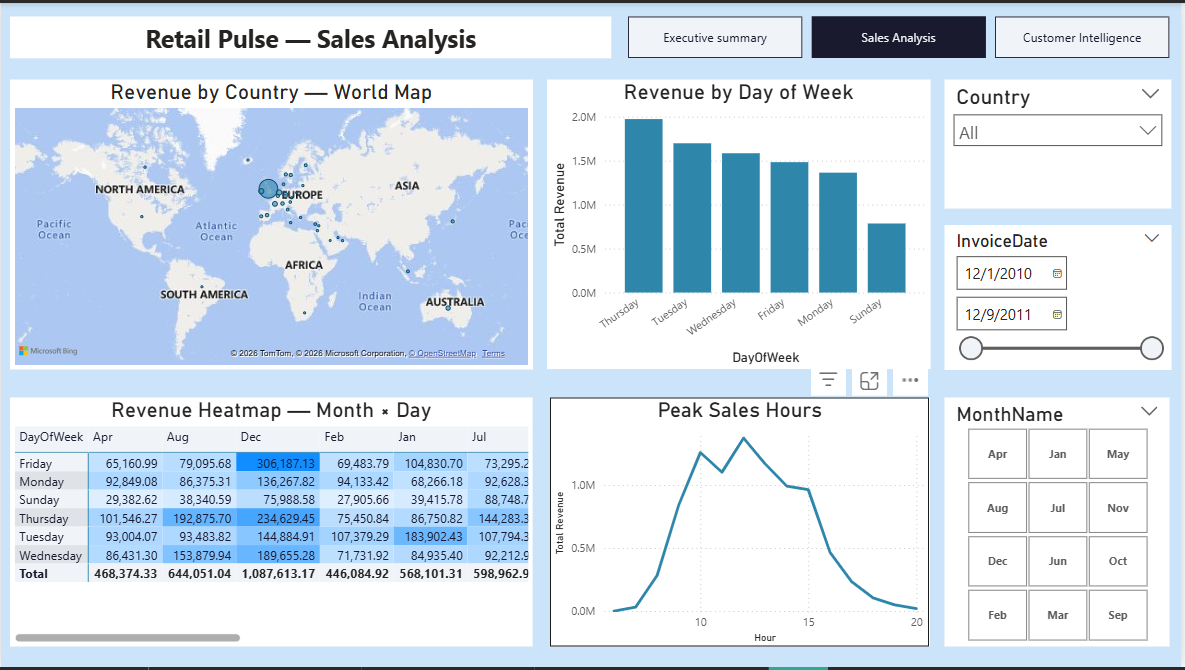

The page's visual inventory and layout, read from the dashboard file:
{"tool":"powerbi","page":{"name":"Sales Analysis","canvas":[1280,720],"ordinal":1},"visuals":[{"type":"clusteredColumnChart","title":"Revenue by Day of Week","fields":{"Category":["retailpulse retail_sales.DayOfWeek"],"Y":["retailpulse retail_sales.Total Revenue"]},"box":[591.5,83.2,415.8,313.7],"z":0},{"type":"lineChart","title":"Peak Sales Hours","fields":{"Category":["retailpulse retail_sales.Hour"],"Y":["retailpulse retail_sales.Total Revenue"]},"box":[595.3,427.1,412,270.2],"z":1000},{"type":"map","title":"Revenue by Country — World Map","fields":{"Category":["retailpulse retail_sales.Country"],"Size":["retailpulse retail_sales.Total Revenue"]},"box":[9.4,83.2,566.9,313.7],"z":2000},{"type":"pivotTable","title":"Revenue Heatmap — Month × Day","fields":{"Rows":["retailpulse retail_sales.DayOfWeek"],"Columns":["retailpulse retail_sales.MonthName"],"Values":["retailpulse retail_sales.Total Revenue"]},"box":[9.4,427.1,566.9,270.2],"z":3000},{"type":"slicer","fields":{"Values":["retailpulse retail_sales.Country"]},"box":[1022.4,83.2,245.7,139.8],"z":4000},{"type":"slicer","fields":{"Values":["retailpulse retail_sales.InvoiceDate"]},"box":[1022.4,240,245.7,156.9],"z":5000},{"type":"slicer","fields":{"Values":["retailpulse retail_sales.MonthName"]},"box":[1022.4,427.1,243.8,270.2],"z":6000},{"type":"textbox","box":[9.4,15.1,652,45.4],"z":7000},{"type":"pageNavigator","box":[680.3,15.1,587.7,45.4],"z":8000}]}

Visuals, with their boxes in screenshot pixels (x1, y1, x2, y2), scaled from the page's 1280x720 canvas onto the 1185x670 screenshot:
"Revenue by Day of Week" clusteredColumnChart: 548,77,933,369
"Peak Sales Hours" lineChart: 551,397,933,649
"Revenue by Country — World Map" map: 9,77,534,369
"Revenue Heatmap — Month × Day" pivotTable: 9,397,534,649
slicer - retailpulse retail_sales.Country: 947,77,1174,208
slicer - retailpulse retail_sales.InvoiceDate: 947,223,1174,369
slicer - retailpulse retail_sales.MonthName: 947,397,1172,649
textbox: 9,14,612,56
pageNavigator: 630,14,1174,56
